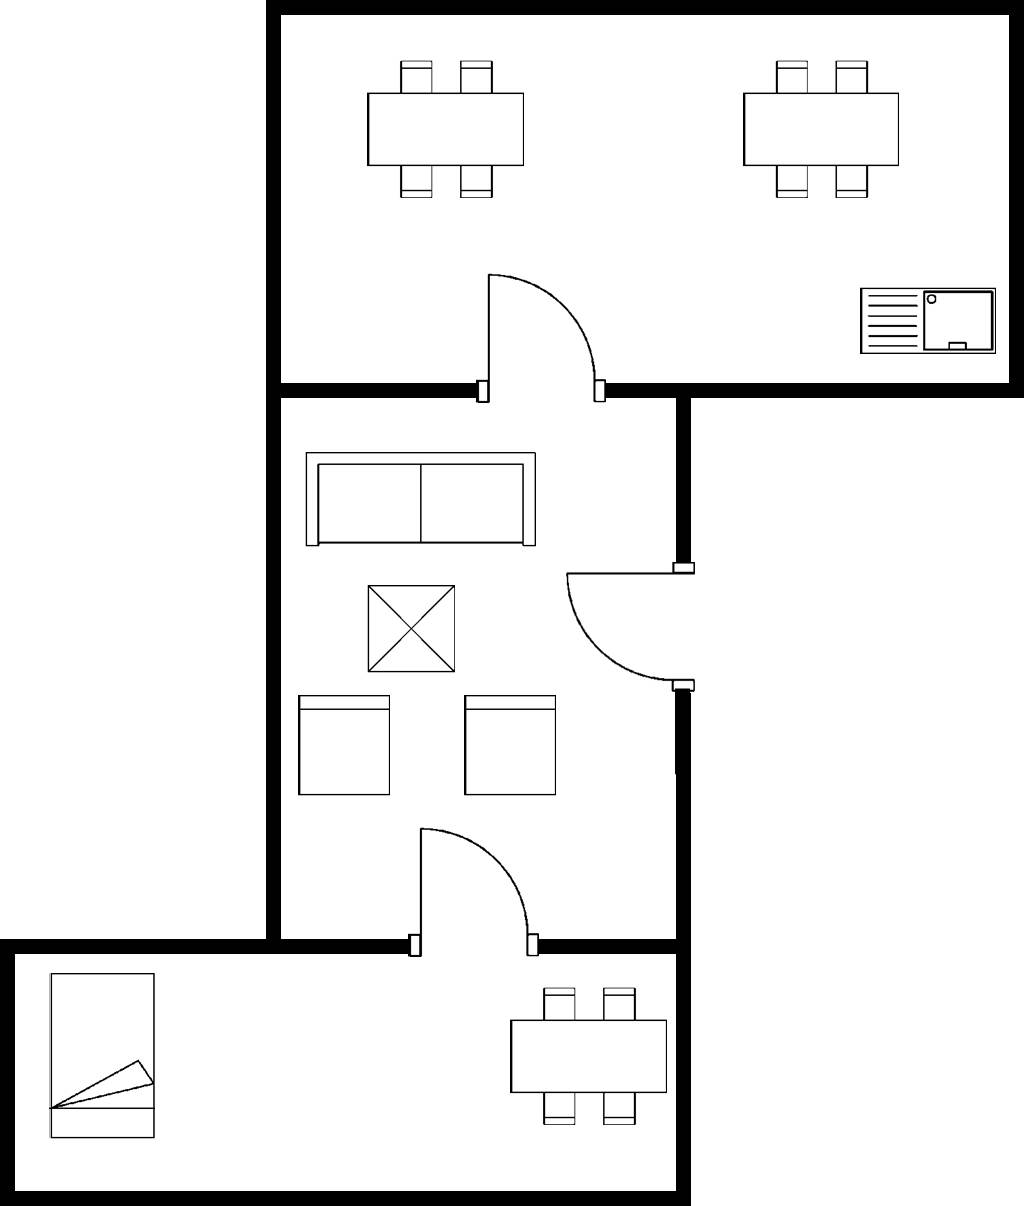bed: (40, 964, 162, 1150)
coffee_table: (359, 576, 465, 683)
dining_table: (358, 51, 540, 208), (736, 51, 909, 204), (502, 981, 673, 1136)
large_sofa: (294, 441, 545, 559)
sink: (853, 281, 1000, 360)
small_sofa: (293, 686, 401, 808), (455, 690, 565, 804)
